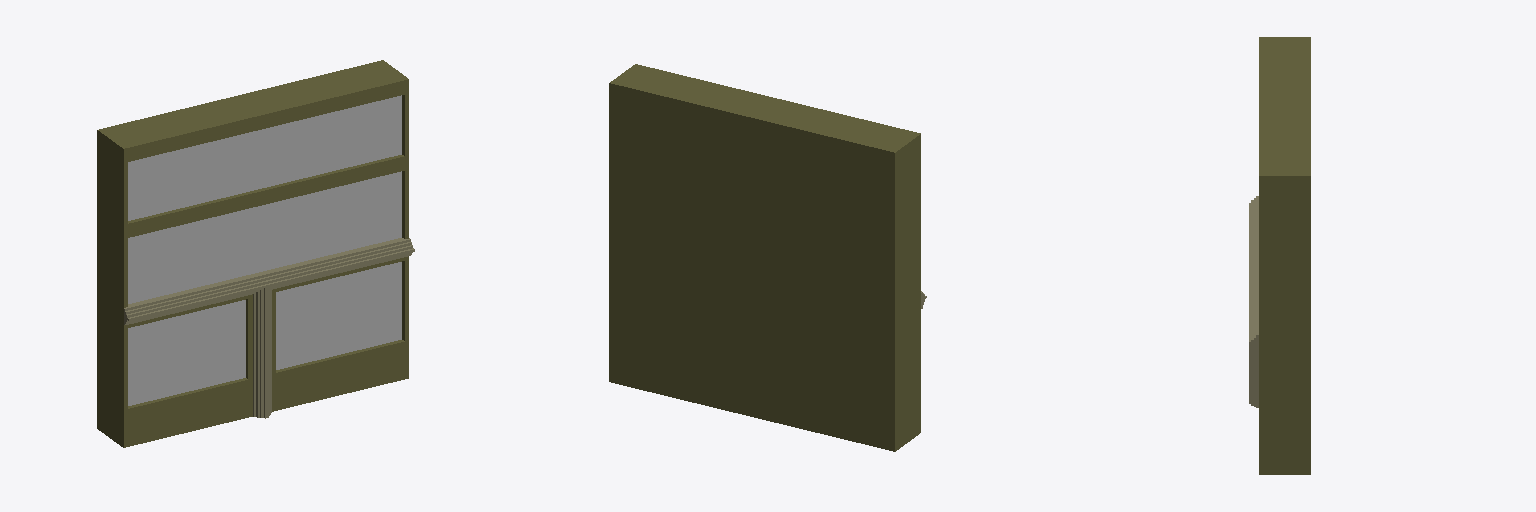
3 renders of one model, left to right at view 1: azimuth 30°, elevation 25°; view 2: azimuth 150°, elevation 25°; view 3: azimuth 270°, elevation 25°, orthographic.
Visible parts, largest first — view 1: object 1; view 2: object 1; view 3: object 1.
Part boxes in pixels (x1,y1,x2,y2): object 1: (97, 60, 414, 447); object 1: (609, 64, 926, 451); object 1: (1249, 37, 1310, 474).
Size of the model in its own units: 12.6 by 12.6 by 2.4.
1 materials, 1 textured.